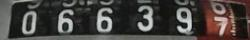digits: (136, 4, 153, 31), (175, 6, 192, 32), (212, 14, 230, 38), (57, 8, 74, 32), (96, 8, 112, 32), (21, 11, 36, 34)
